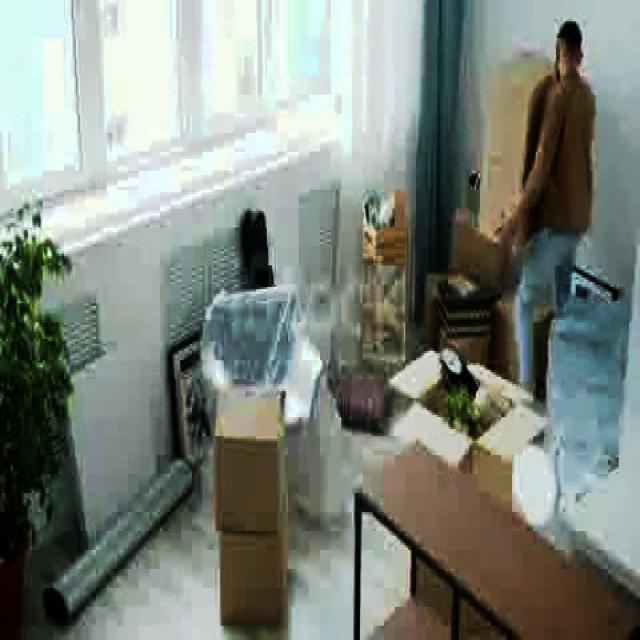Box: (212, 398, 285, 536), (221, 528, 287, 624)
